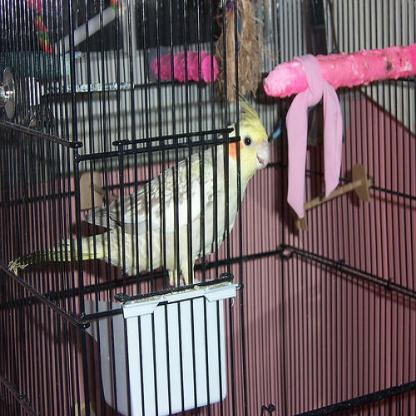bird: (7, 108, 271, 292)
